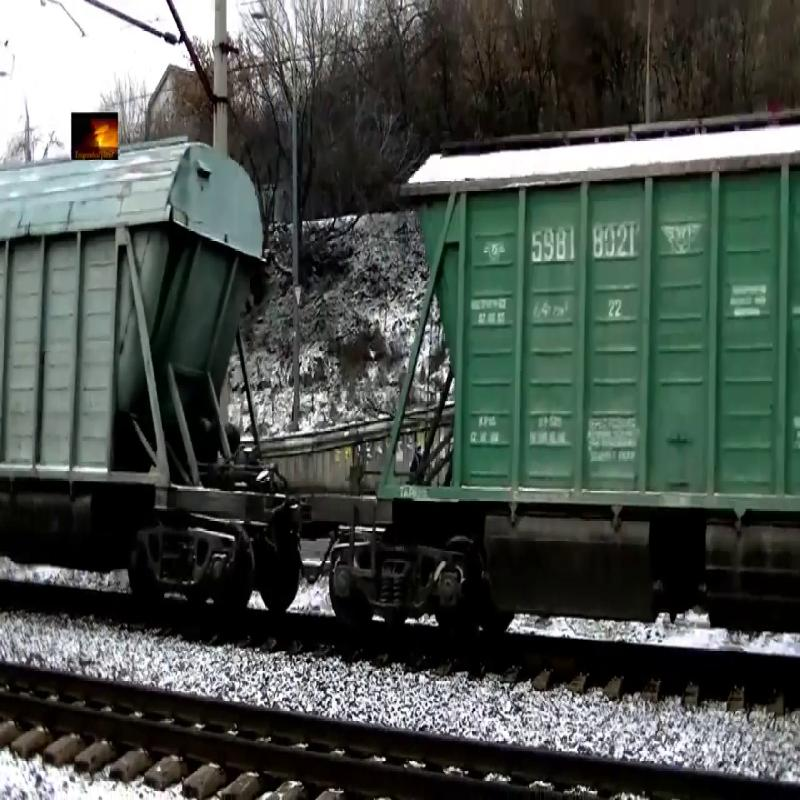train: (375, 107, 800, 565), (2, 130, 269, 531)
